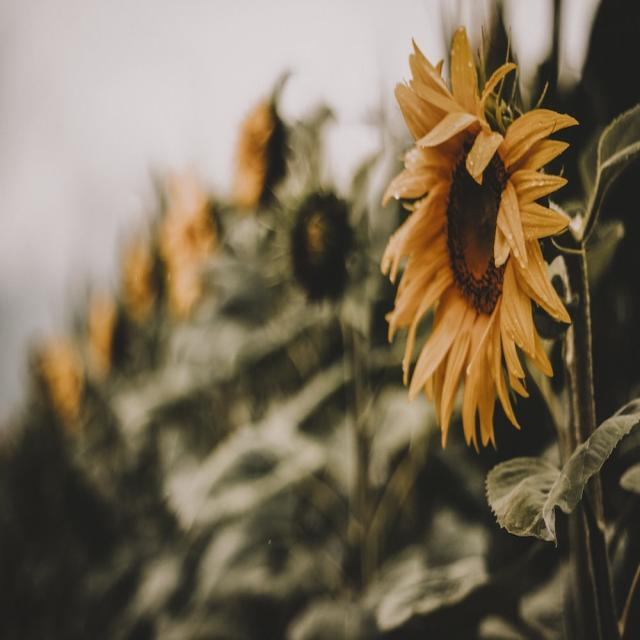sunflower: (384, 0, 595, 446), (144, 144, 250, 307), (70, 253, 180, 386), (218, 40, 298, 218), (93, 203, 192, 332), (16, 322, 80, 456)
